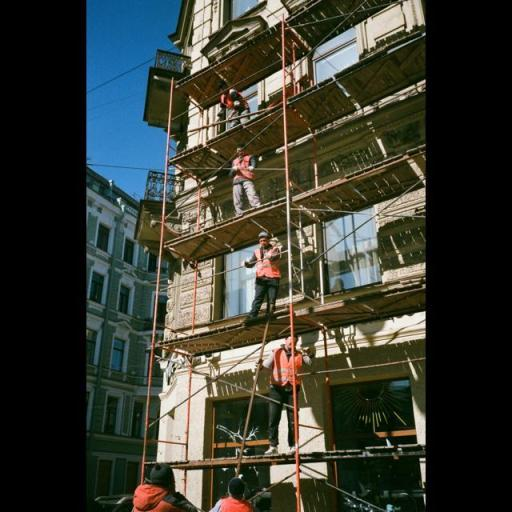Person: (266, 333, 316, 448), (241, 218, 291, 332), (222, 132, 268, 219), (215, 75, 266, 131)
gloves: (240, 256, 250, 269), (264, 252, 274, 262), (247, 163, 254, 174), (232, 165, 238, 172)
helmet: (254, 227, 273, 241)
none: (140, 458, 178, 485), (218, 476, 257, 502)
vest: (270, 346, 304, 390), (252, 245, 282, 281), (225, 156, 255, 184), (221, 88, 248, 116)
